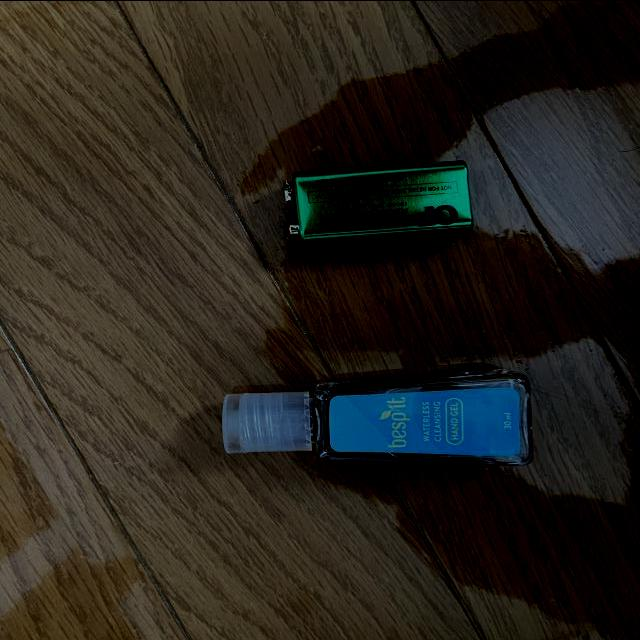9V: (286, 158, 473, 246)
